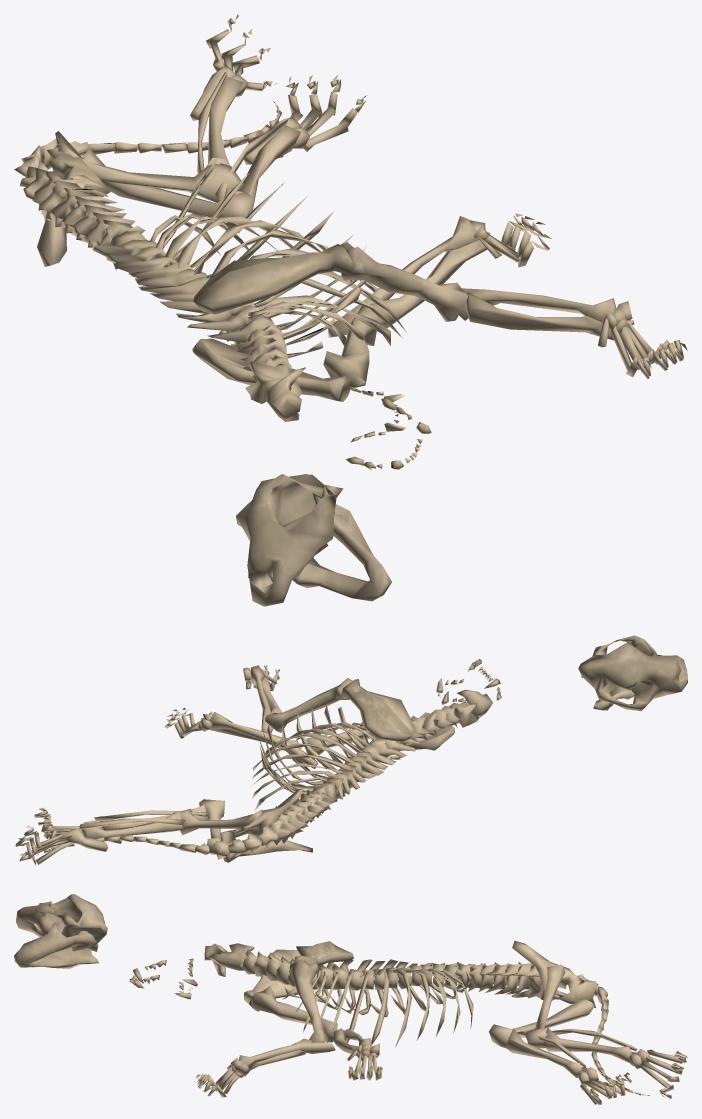
Rendered from wildcat_bones_b.glb.
3 renders of one model, top to bottom at view 1: azimuth 30°, elevation 25°; view 2: azimuth 150°, elevation 25°; view 3: azimuth 270°, elevation 25°, orthographic. The views are drawn at different scales.
Parts seen in each view (by area): view 1: PM3D_Cylinder3D1.001; view 2: PM3D_Cylinder3D1.001; view 3: PM3D_Cylinder3D1.001.
Boxes of the visible parts, x1,y1,x2,y2 form: PM3D_Cylinder3D1.001: [14, 14, 687, 606]; PM3D_Cylinder3D1.001: [14, 635, 687, 865]; PM3D_Cylinder3D1.001: [14, 894, 687, 1104].
Bounding box in the file's own units: 1.7 × 0.3685 × 2.87.
1 material, 1 textured.
